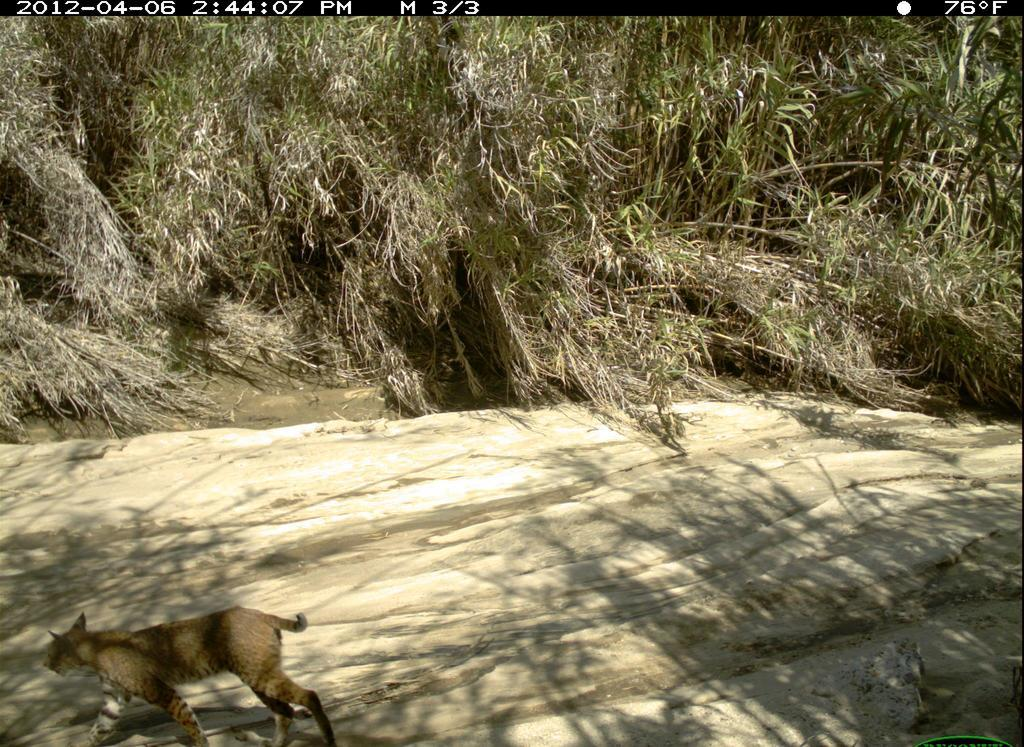bobcat: (36, 602, 346, 747)
